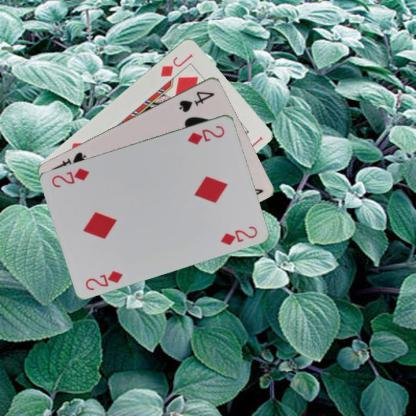2d: (185, 122, 226, 146), (83, 268, 124, 291)
4s: (176, 88, 216, 113)
Jd: (158, 51, 194, 78)
